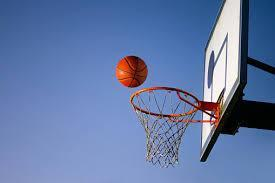ball: (117, 56, 147, 87)
rim: (130, 87, 199, 163)
